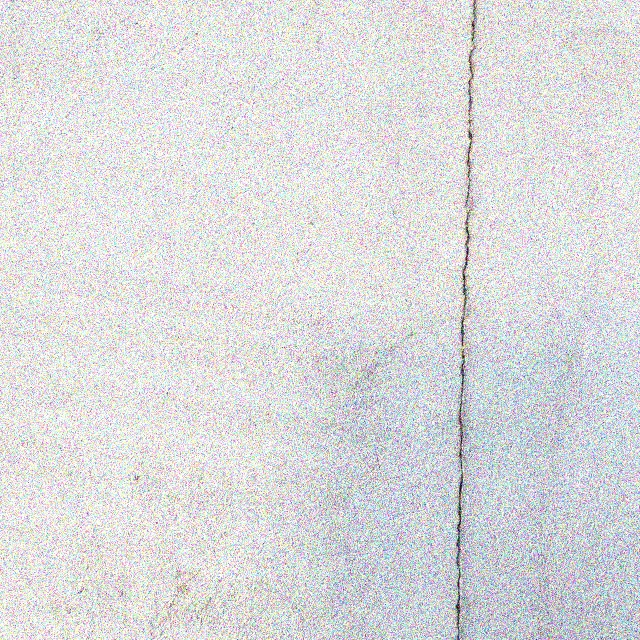SurfaceCrack: (406, 1, 526, 640)
